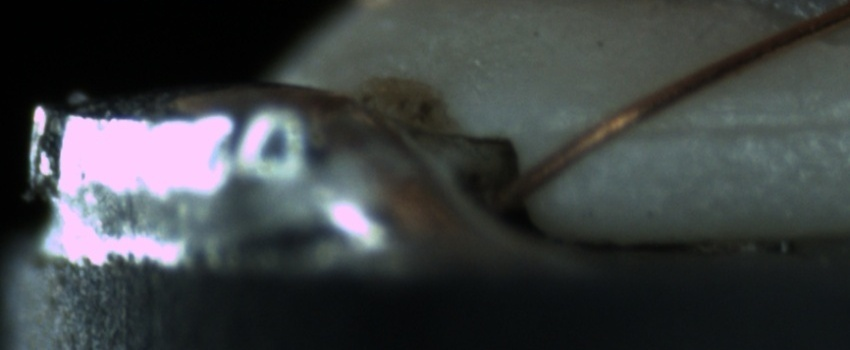DL: (563, 92, 848, 161)
